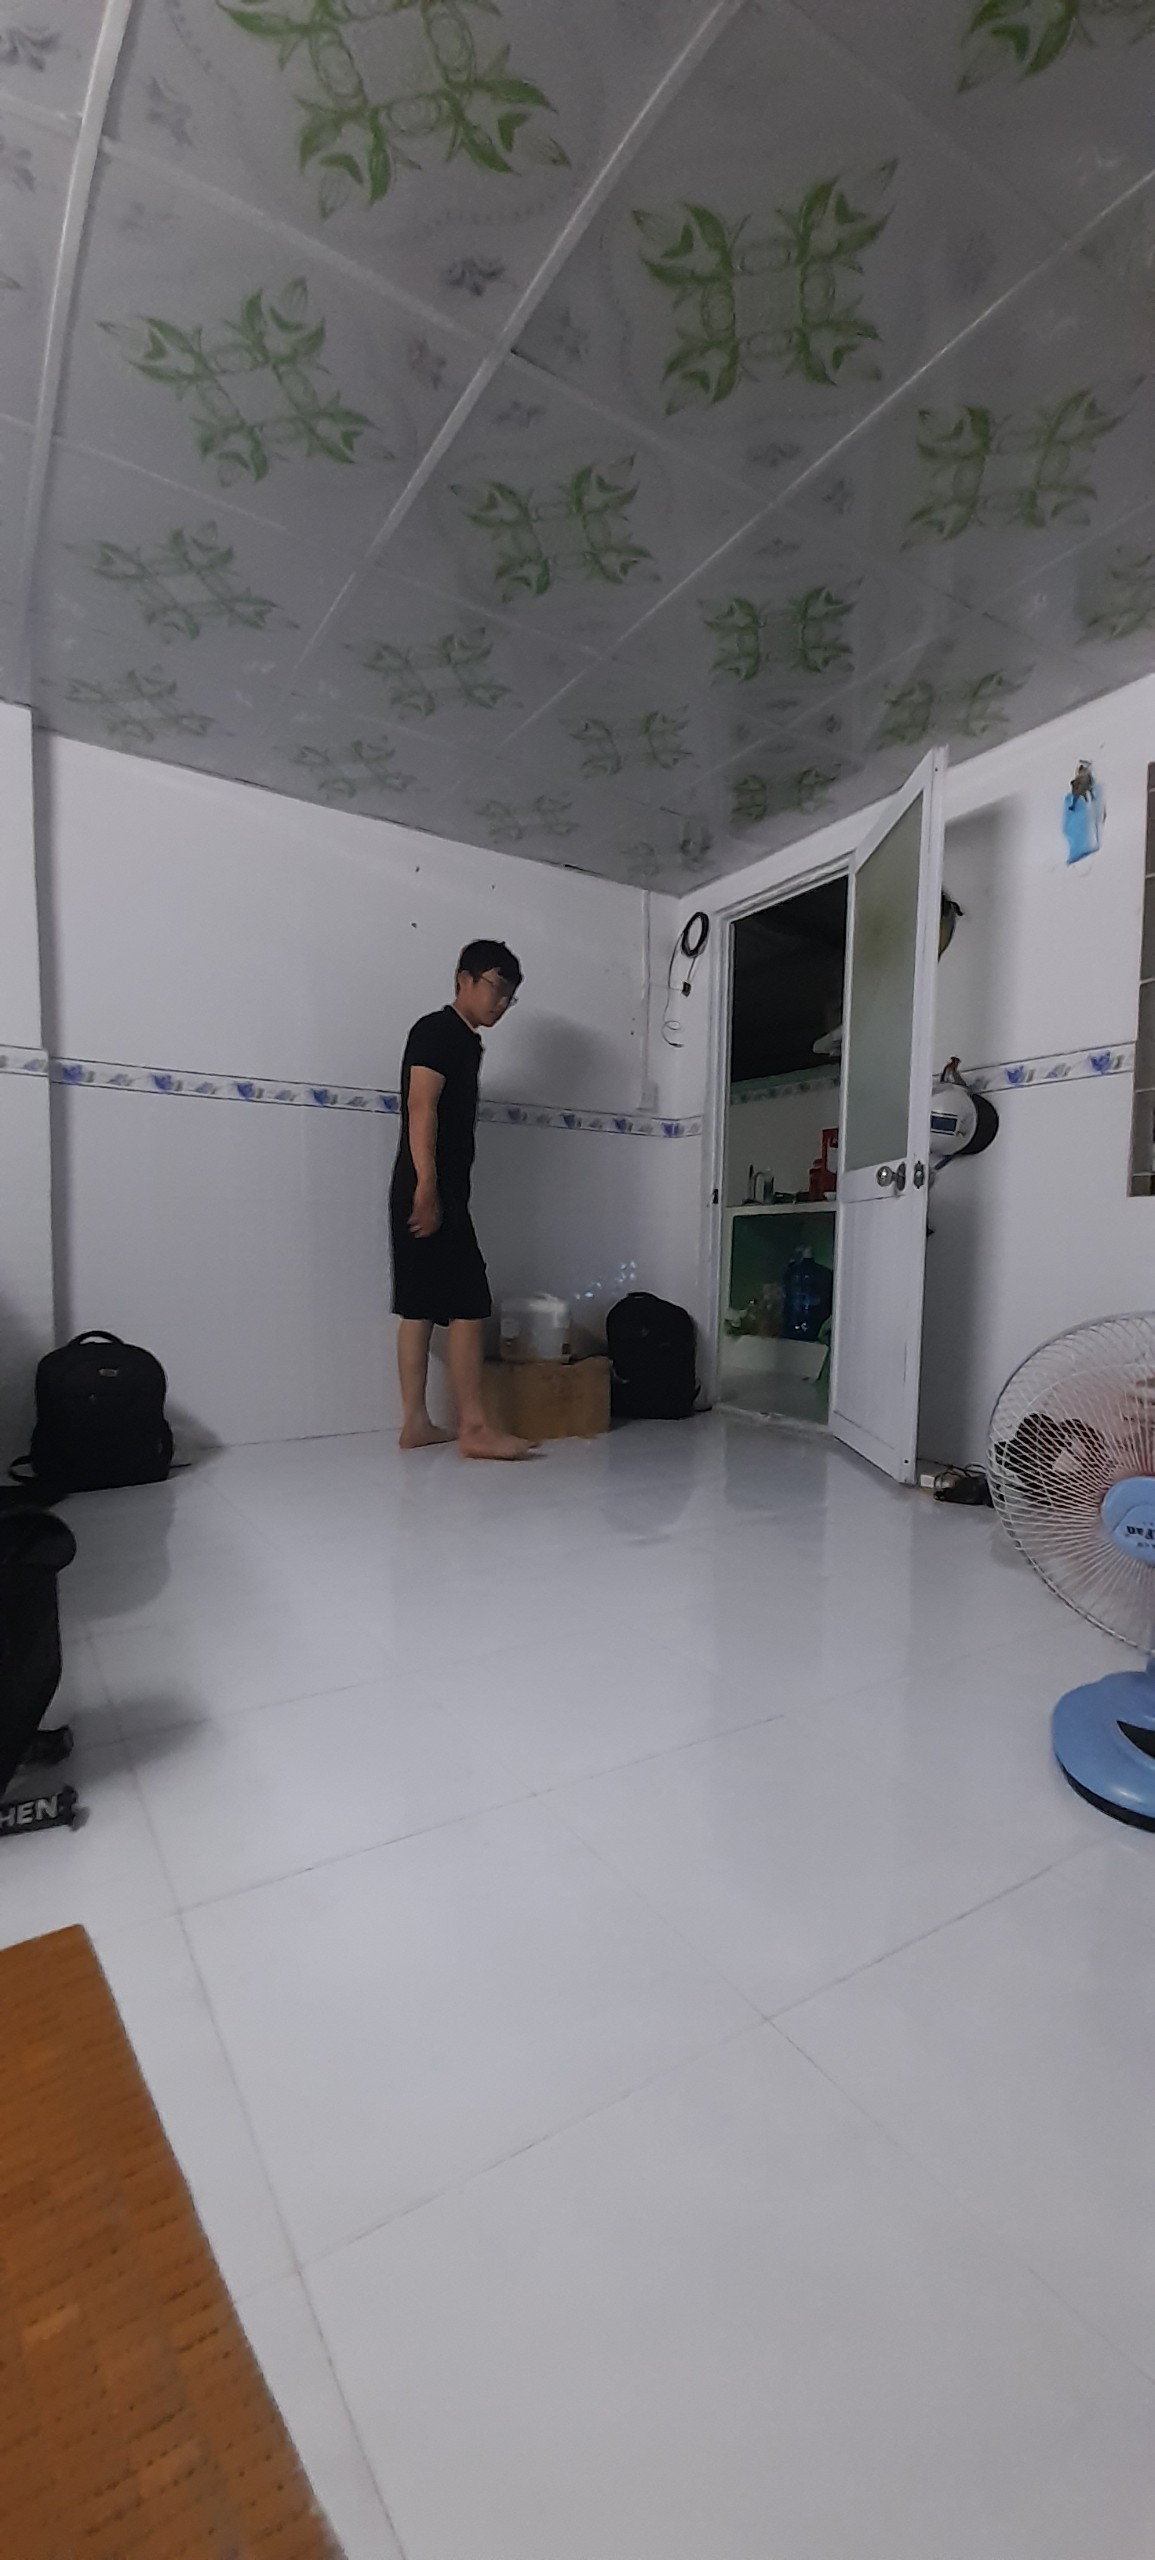person: (395, 936, 535, 1463)
